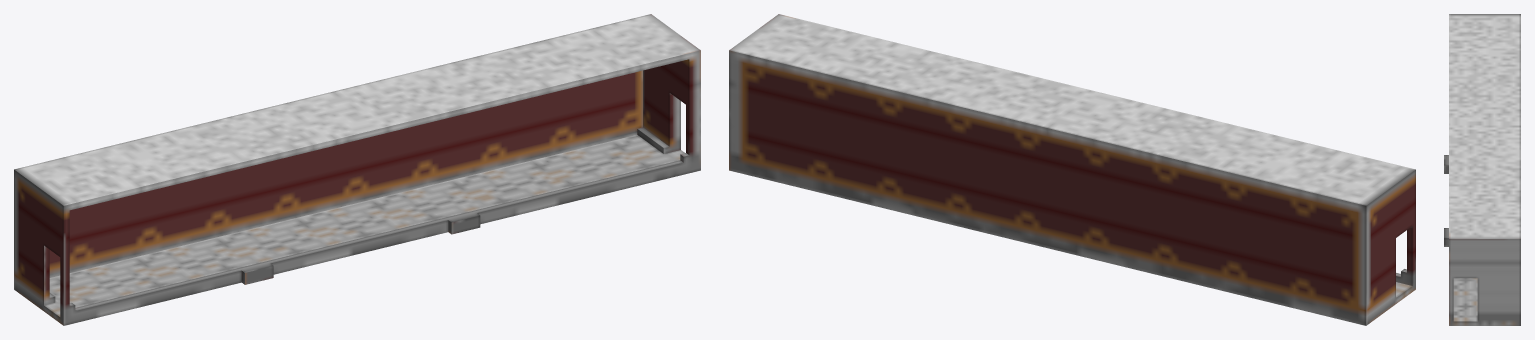
The model's file is Corridor-2.fbx.
The picture shows the model from 3 angles, left to right: view 1: azimuth 30°, elevation 25°; view 2: azimuth 150°, elevation 25°; view 3: azimuth 270°, elevation 25°; orthographic projection. The views are drawn at different scales.
Visible parts, largest first — view 1: Untitled; view 2: Untitled; view 3: Untitled.
Boxes of the visible parts, x1,y1,x2,y2 form: Untitled: (14,14,700,325); Untitled: (729,14,1415,325); Untitled: (1444,14,1520,325).
Size of the model in its own units: 1110 by 200 by 160.
1 material, 1 textured.
